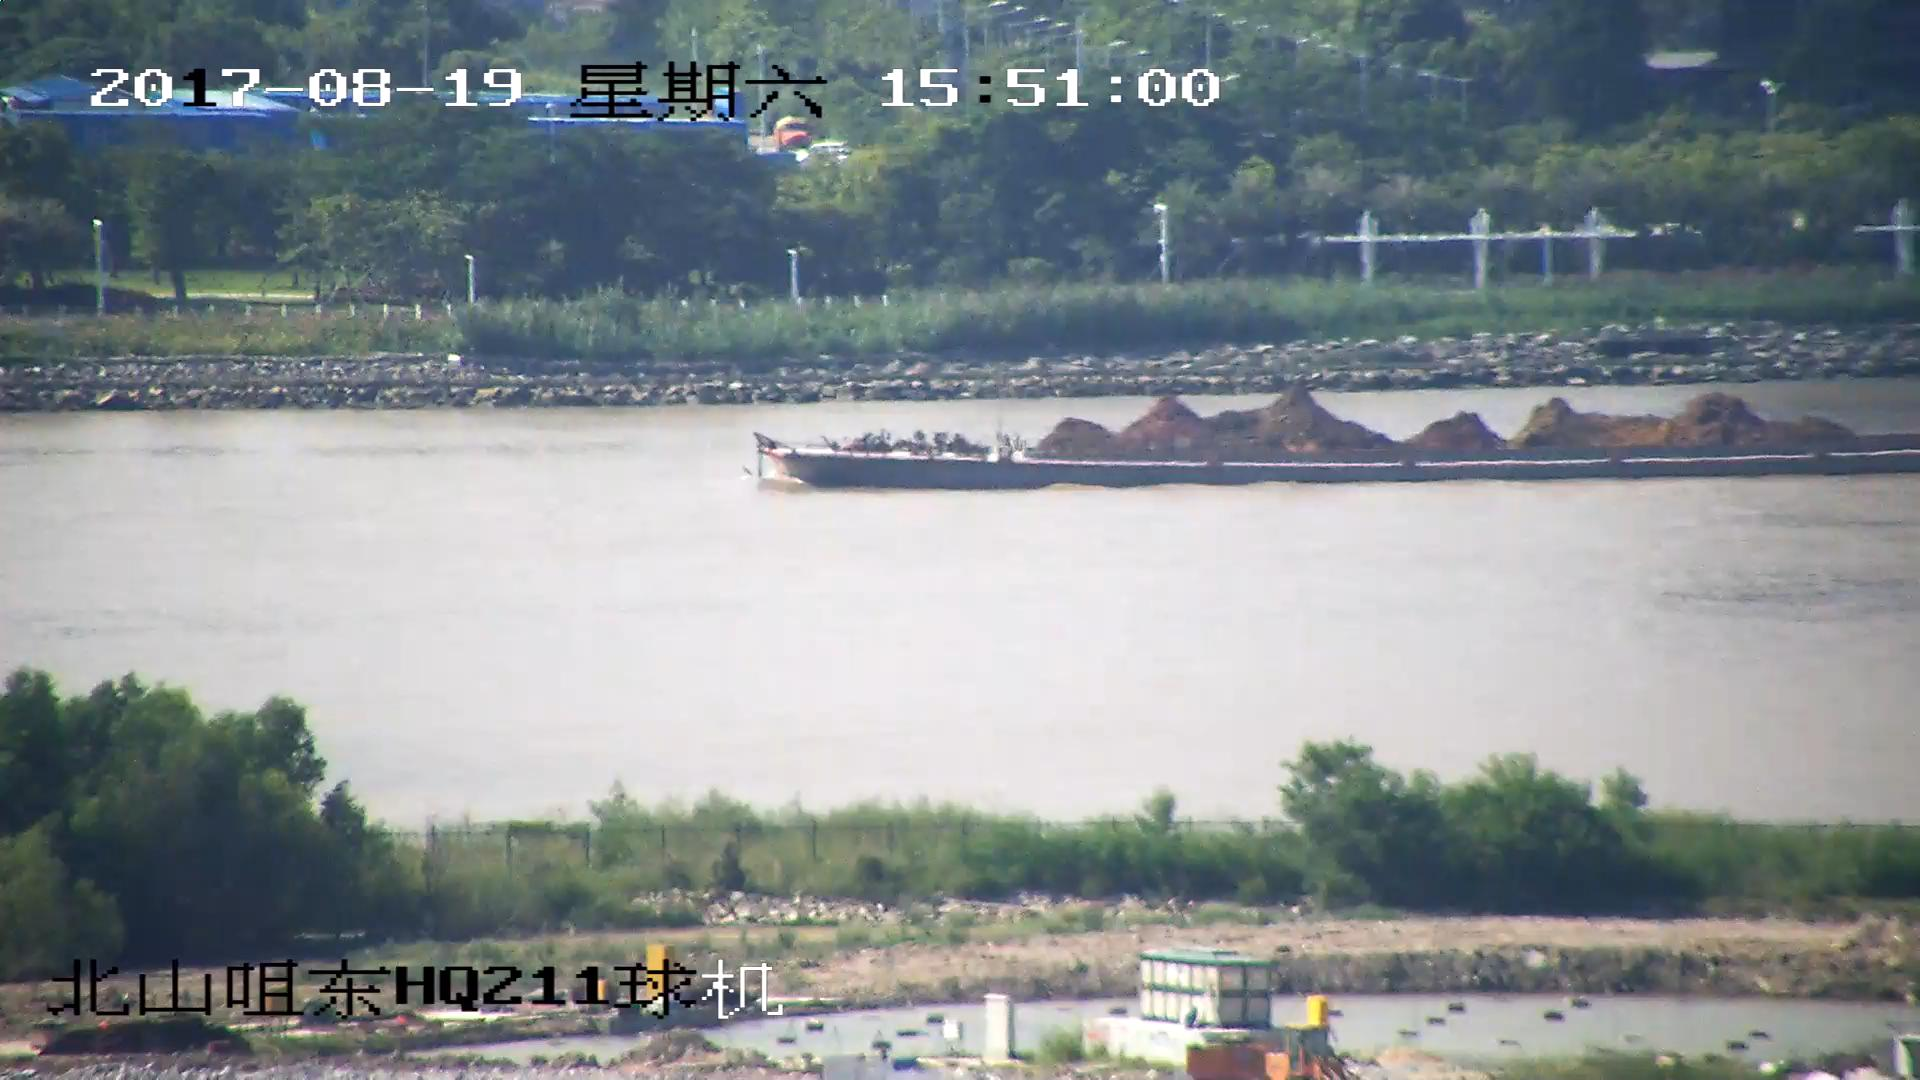ore carrier: (751, 384, 1920, 489)
